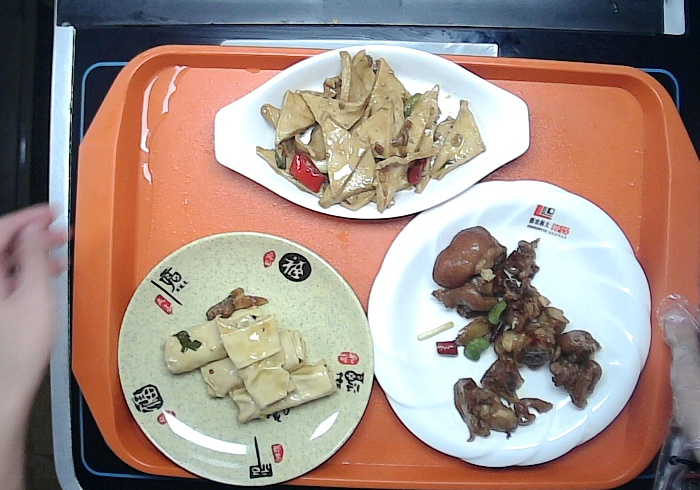NLDX-Bai_Zhe_Yuan_Pan: (366, 177, 654, 470)
NLDX-Fu_Zi_Yuan_Pan: (115, 227, 376, 490)
NLDX-Yu_Pan: (212, 43, 532, 221)
